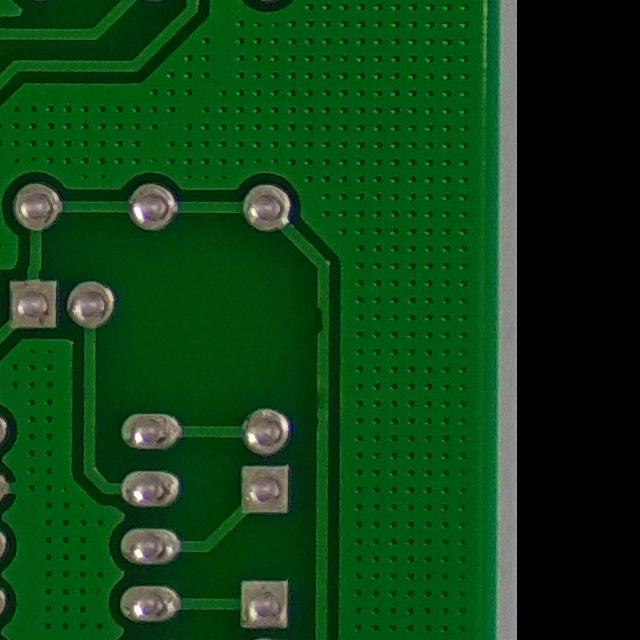mouse_bite: (304, 296, 336, 344)
